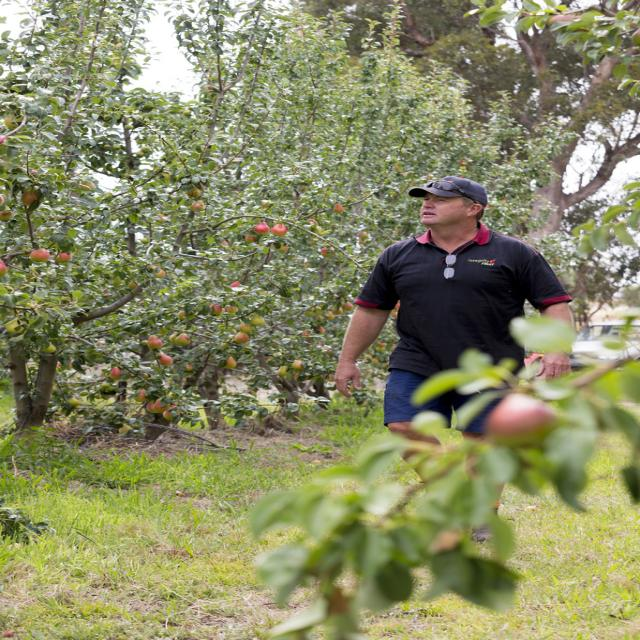Healty Apple: (486, 392, 556, 435)
